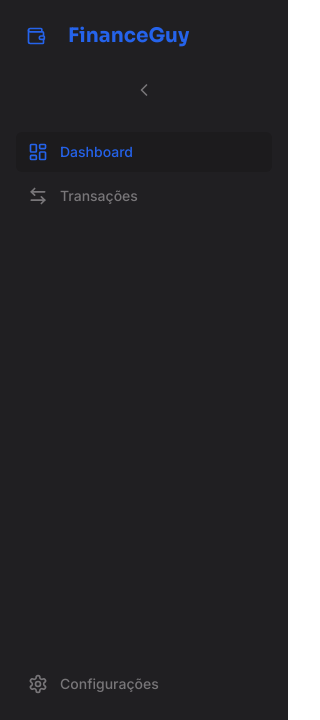
it: Sidebar - Edge Cases › oculta labels quando colapsado
The image size is (320, 720).
Expected: the text "Dashboard" is shown, [60, 142, 133, 162]
Expected: the text "Transações" is shown, [60, 186, 138, 206]
Click the button named "recolher sidebar" at (144,90), box [8, 72, 280, 108]
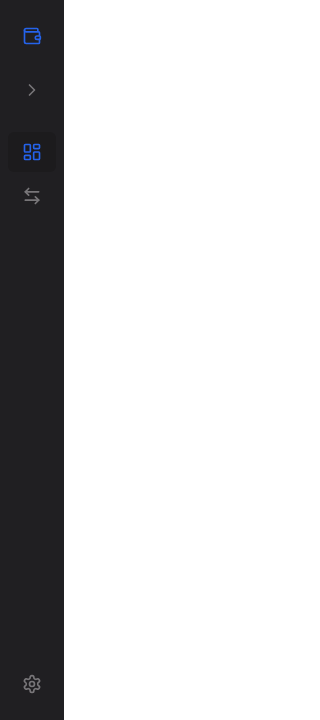
Result: the text "Dashboard" is gone
Result: the text "Transações" is gone
